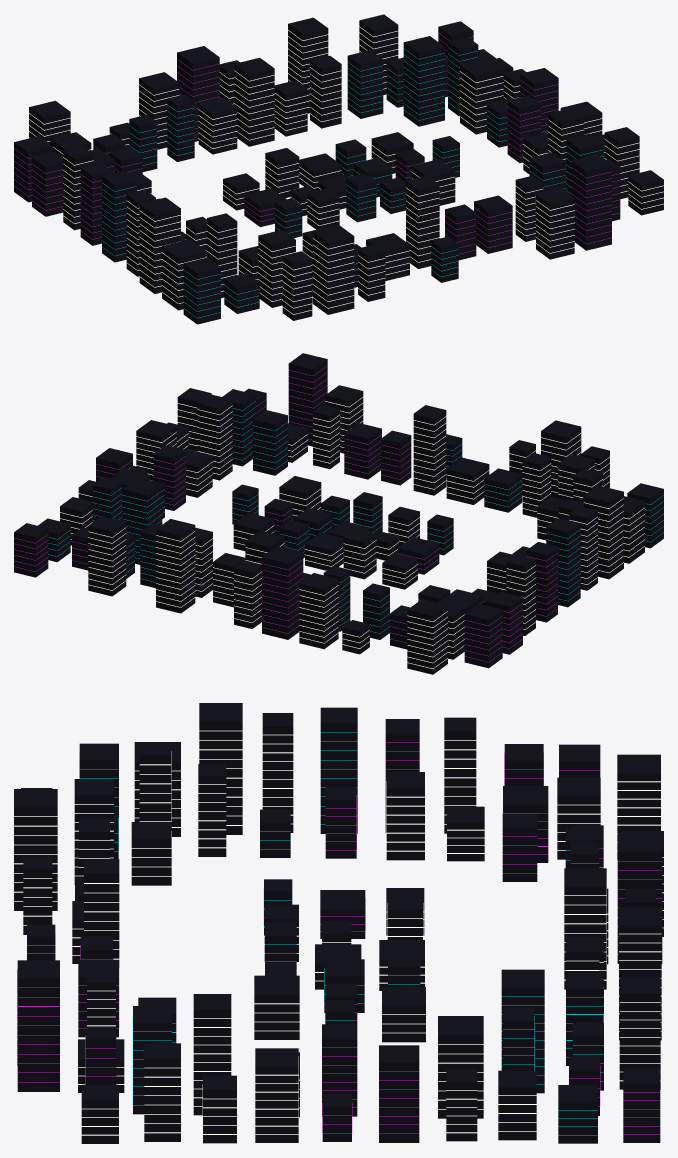
The model's file is SM_Track_Buildings.fbx.
3 views of the same model, one above another, from view 1: azimuth 30°, elevation 25°; view 2: azimuth 150°, elevation 25°; view 3: azimuth 270°, elevation 25° (orthographic). The views are drawn at different scales.
Parts seen in each view (by area): view 1: SM_Track_Buildings; view 2: SM_Track_Buildings; view 3: SM_Track_Buildings.
Boxes of the visible parts, x1,y1,x2,y2 form: SM_Track_Buildings: (14,14,663,324); SM_Track_Buildings: (14,353,663,674); SM_Track_Buildings: (14,703,663,1143).
Size of the model in its own units: 66534 by 10861 by 55532.
